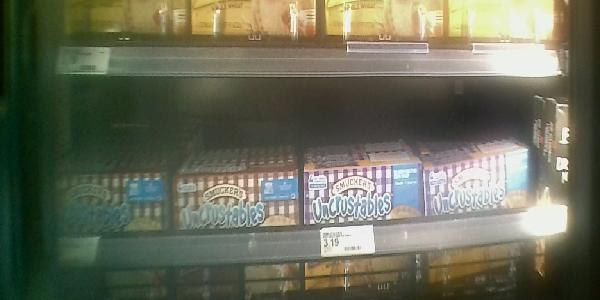icecream: (46, 156, 179, 249), (175, 159, 307, 238), (304, 157, 427, 231), (417, 153, 540, 220)
